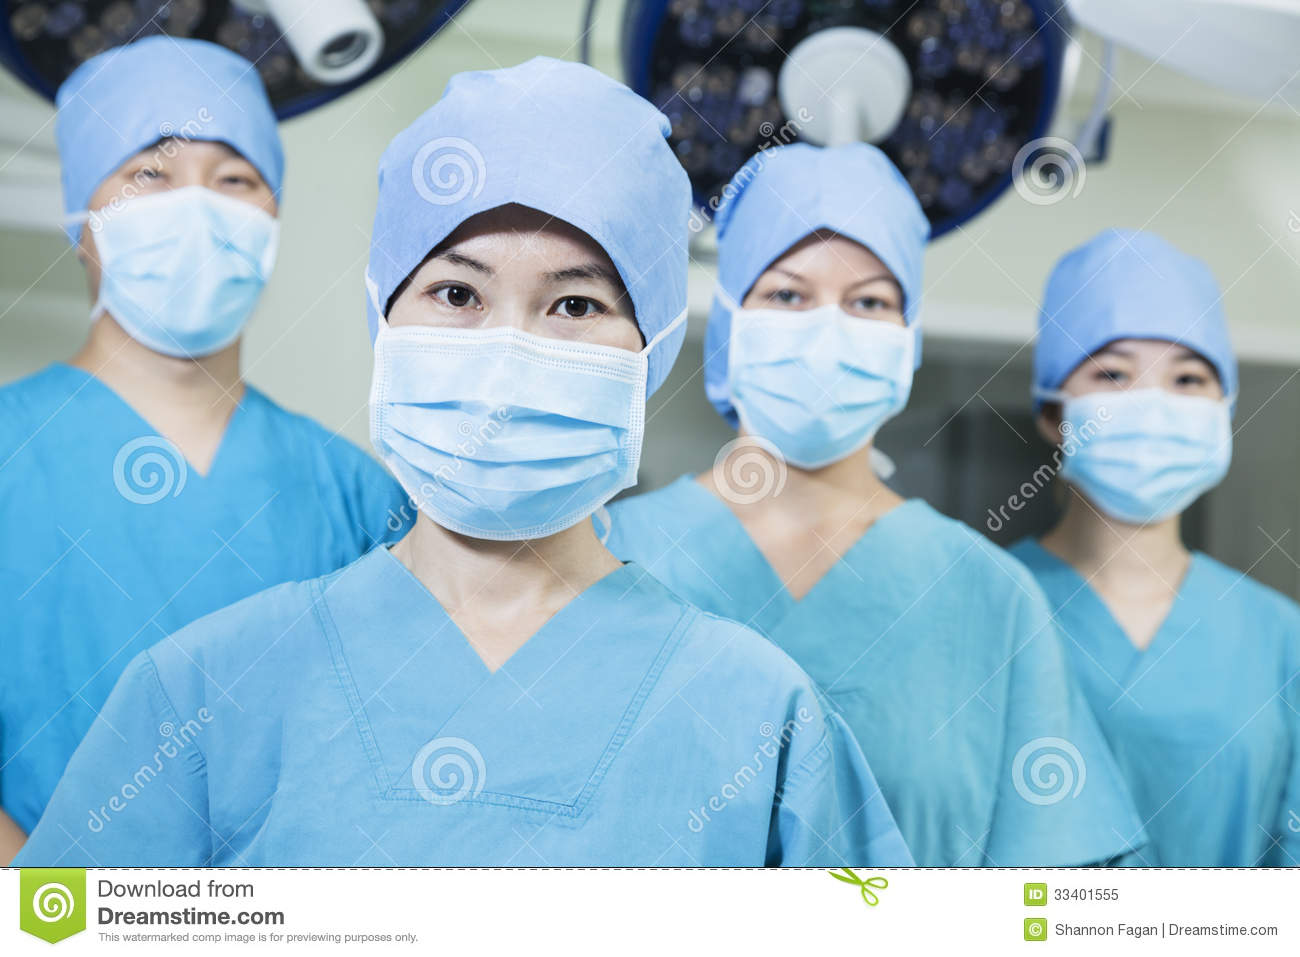mask: (381, 330, 647, 552), (717, 320, 920, 469), (72, 204, 276, 352), (1041, 401, 1239, 527)
